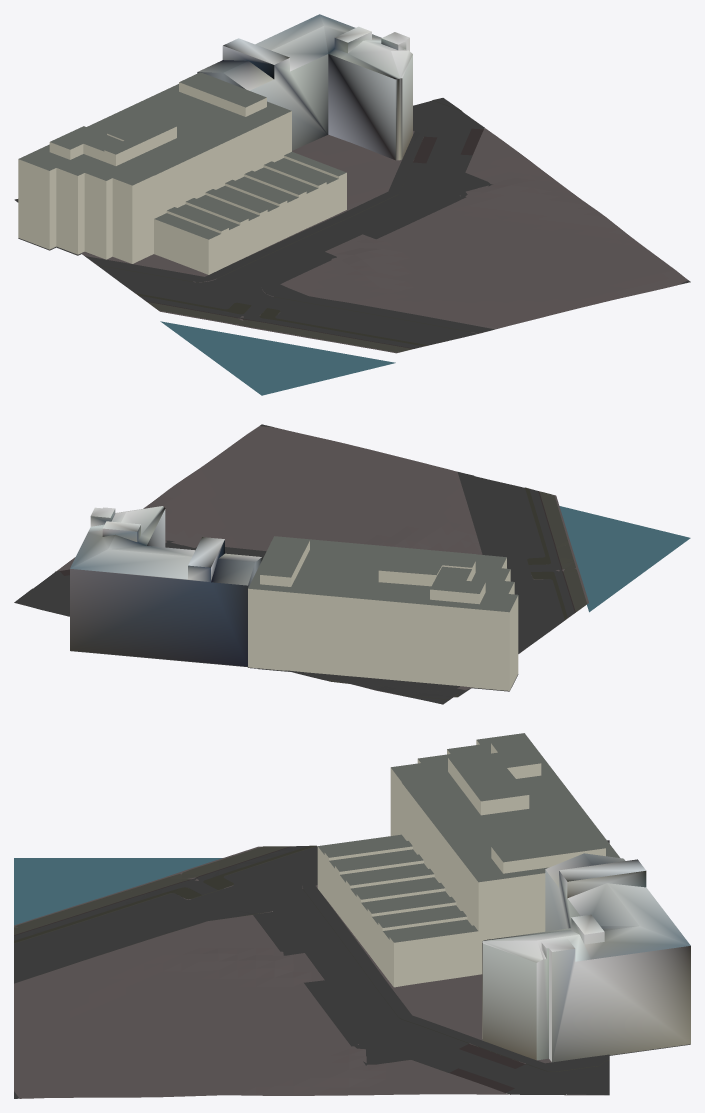
3 renders of one model, top to bottom at view 1: azimuth 30°, elevation 25°; view 2: azimuth 150°, elevation 25°; view 3: azimuth 270°, elevation 25°, orthographic. The views are drawn at different scales.
Visible parts, largest first — view 1: c_m22_p06; view 2: c_m22_p06; view 3: c_m22_p06.
Boxes of the visible parts, left/top/right/bottom form: c_m22_p06: left=14, top=14, right=690, bottom=395; c_m22_p06: left=14, top=424, right=690, bottom=704; c_m22_p06: left=14, top=733, right=690, bottom=1098.
Size of the model in its own units: 137 by 30.33 by 146.
